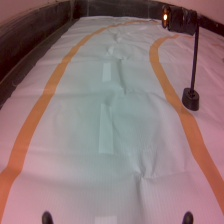yellow: (160, 3, 202, 113)
